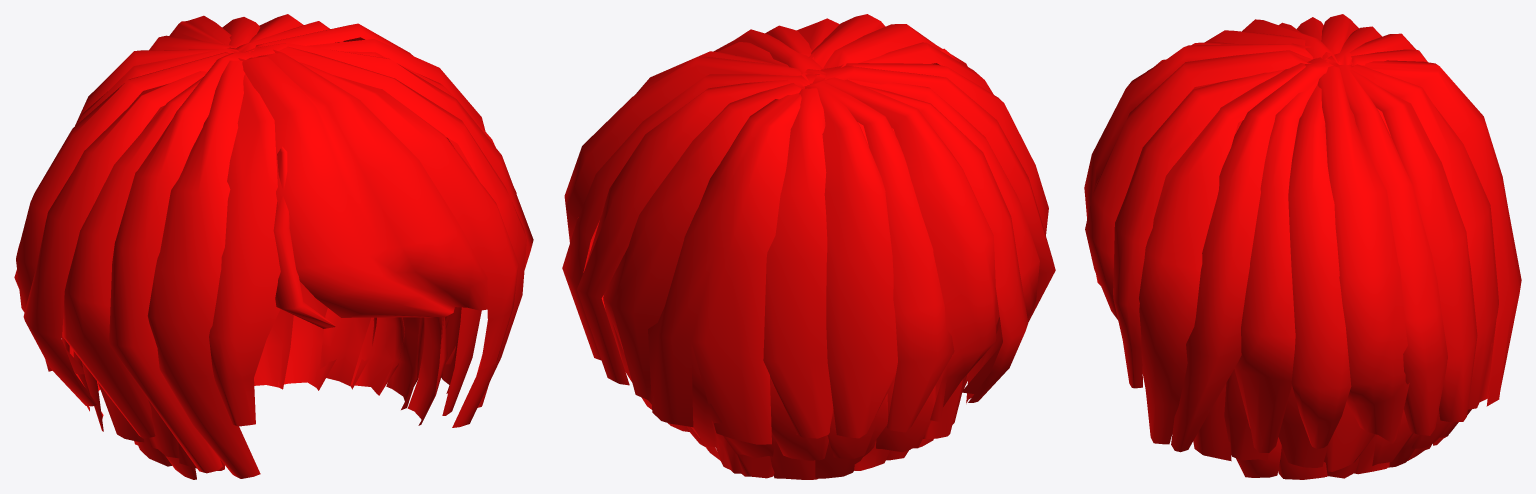
File: littleright_bobcut_hair_F.glb
3 renders of one model, left to right at view 1: azimuth 30°, elevation 25°; view 2: azimuth 150°, elevation 25°; view 3: azimuth 270°, elevation 25°, orthographic. The views are drawn at different scales.
Size of the model in its own units: 0.2582 by 0.2095 by 0.2177.
1 material, 1 textured.
